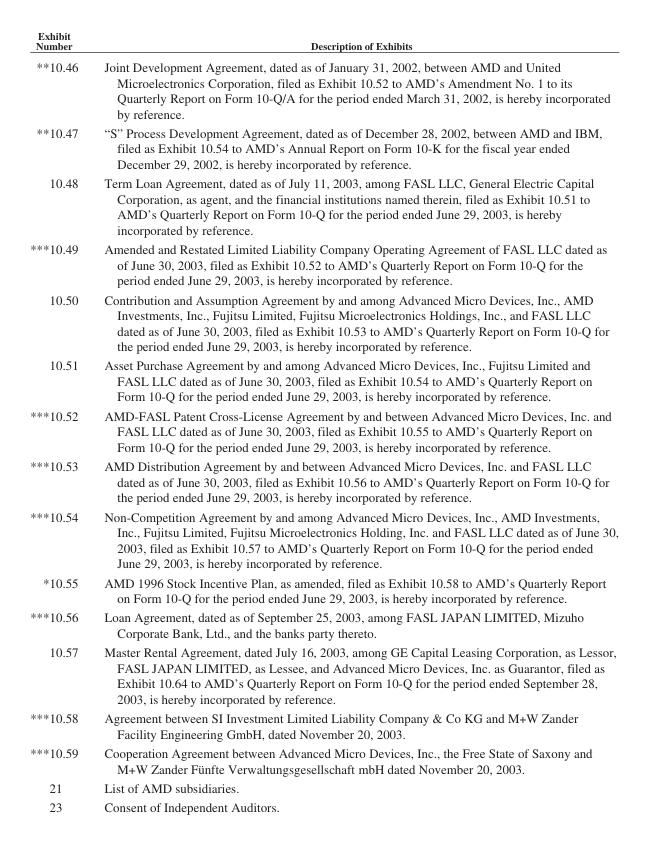table: (29, 29, 617, 814)
table column: (90, 29, 617, 814), (29, 29, 90, 814)
table column header: (29, 29, 617, 55)
table row: (29, 55, 617, 122), (29, 173, 617, 239), (29, 289, 617, 355), (29, 506, 617, 572), (29, 642, 617, 708), (29, 122, 617, 173), (29, 405, 617, 456), (29, 239, 617, 289), (29, 355, 617, 405), (29, 456, 617, 506), (29, 572, 617, 607), (29, 607, 617, 642), (29, 742, 617, 777), (29, 708, 617, 742), (29, 29, 617, 55), (29, 777, 617, 797), (29, 797, 617, 814)
